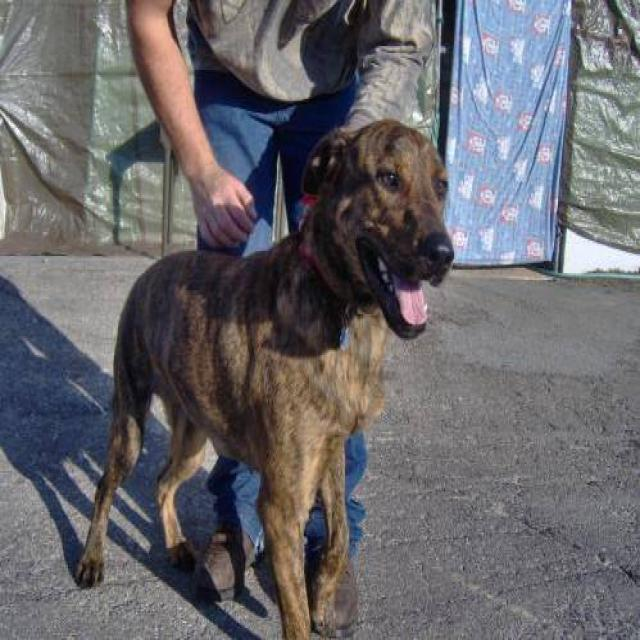dog: (72, 116, 455, 638)
